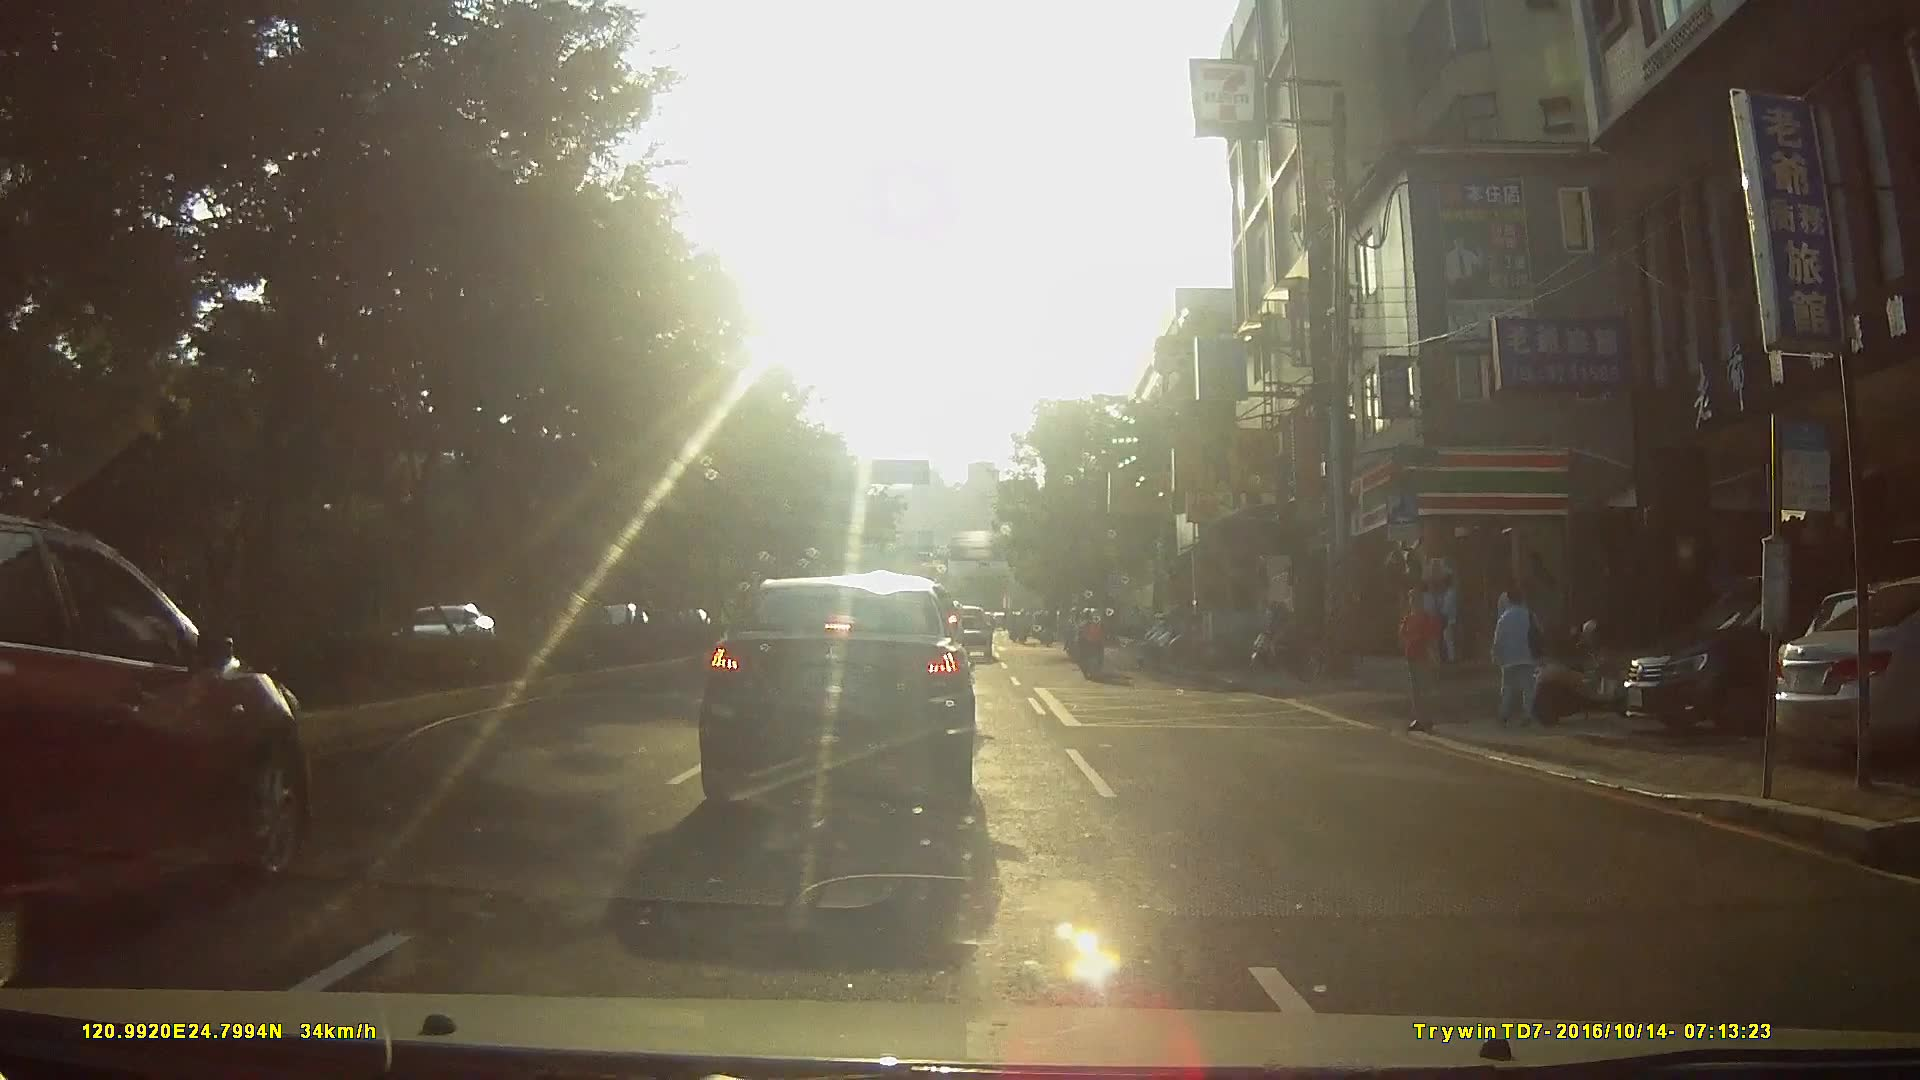pedestrian: (1484, 585, 1546, 727), (1401, 589, 1442, 737)
rider: (1072, 605, 1110, 681), (1062, 606, 1087, 659)
vehicle: (1, 507, 323, 953), (696, 573, 991, 782), (1612, 559, 1918, 743), (1755, 576, 1920, 767), (400, 601, 497, 656)
